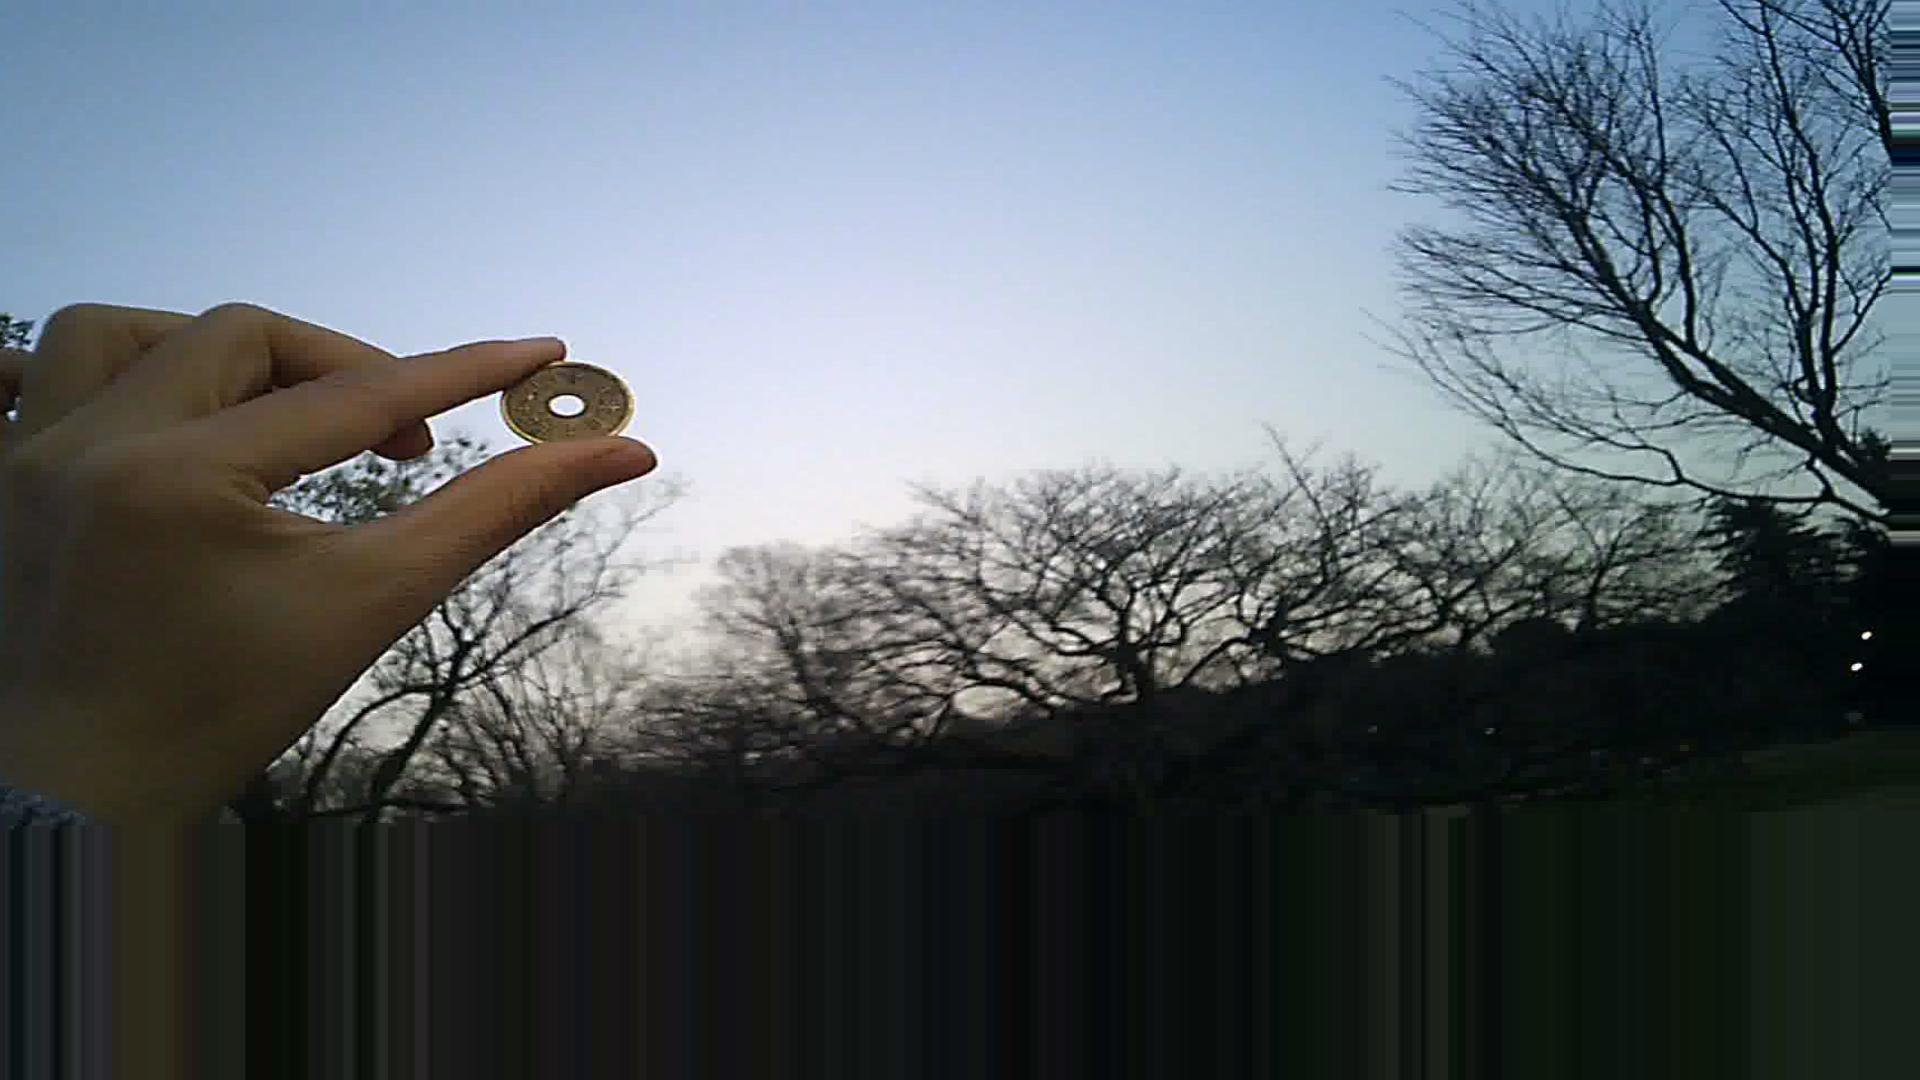5 Yen: (495, 348, 636, 448)
